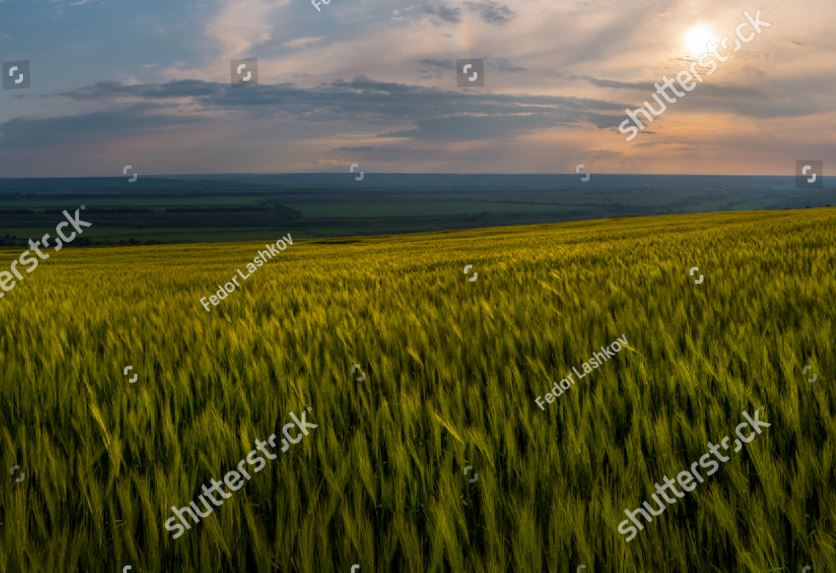Wheat: (94, 308, 519, 509)
